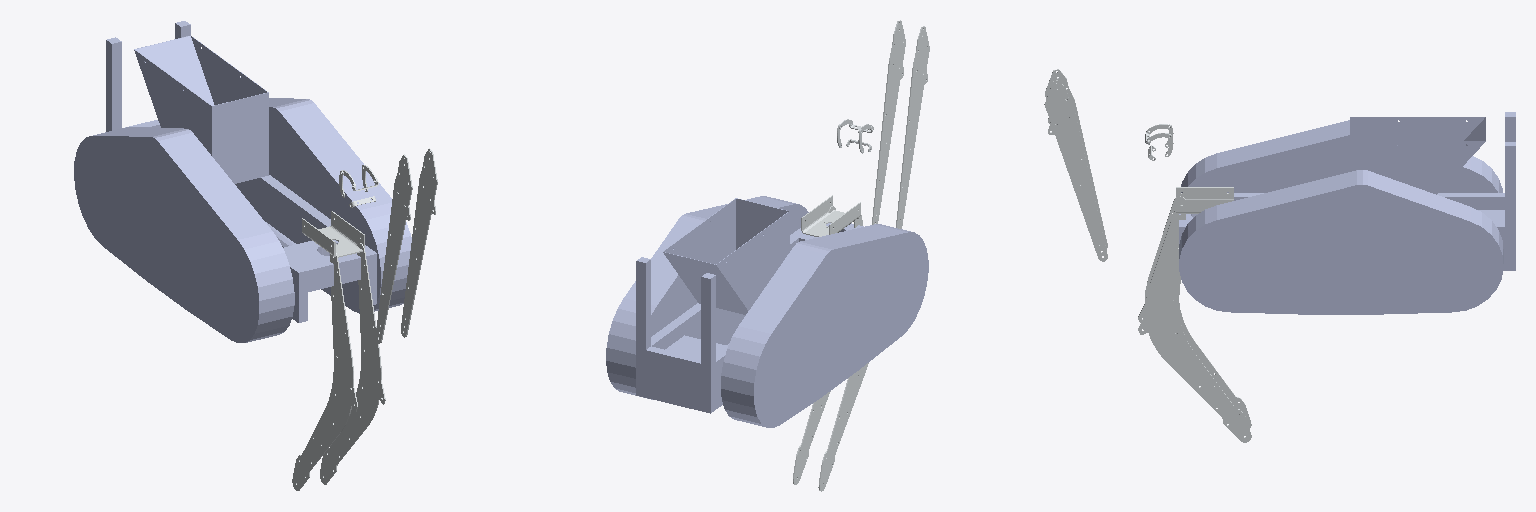
URDF robot description (urdf_files):
<?xml version="1.0" encoding="utf-8"?>
<!-- This URDF was automatically created by SolidWorks to URDF Exporter! Originally created by [author] ([email redacted]) 
     Commit Version: 1.5.1-0-g916b5db  Build Version: 1.5.7152.31018
     For more information, please see http://wiki.ros.org/sw_urdf_exporter -->
<robot
  name="urdf_files">
  <link
    name="base_link">
    <inertial>
      <origin
        xyz="-0.000245405735387999 0.176708927673057 0.00200662816430458"
        rpy="0 0 0" />
      <mass
        value="73.1987225940831" />
      <inertia
        ixx="5.44844381853453"
        ixy="0.000530588416338094"
        ixz="0.00684956990429821"
        iyy="4.94620833738639"
        iyz="0.0418907255499782"
        izz="0.794151271490352" />
    </inertial>
    <visual>
      <origin
        xyz="0 0 0"
        rpy="0 0 0" />
      <geometry>
        <mesh
          filename="package://urdf_files/meshes/base_link.STL" />
      </geometry>
      <material
        name="">
        <color
          rgba="0.792156862745098 0.819607843137255 0.933333333333333 1" />
      </material>
    </visual>
    <collision>
      <origin
        xyz="0 0 0"
        rpy="0 0 0" />
      <geometry>
        <mesh
          filename="package://urdf_files/meshes/base_link.STL" />
      </geometry>
    </collision>
  </link>
  <link
    name="Turntable_Link">
    <inertial>
      <origin
        xyz="3.91763135820788E-09 0.205567132192906 -0.00190110285770567"
        rpy="0 0 0" />
      <mass
        value="0.227999436482662" />
      <inertia
        ixx="0.000570763969480878"
        ixy="1.48699454009952E-11"
        ixz="2.69155197840914E-12"
        iyy="0.000802639067555957"
        iyz="5.46441695495813E-08"
        izz="0.000323934062677162" />
    </inertial>
    <visual>
      <origin
        xyz="0 0 0"
        rpy="0 0 0" />
      <geometry>
        <mesh
          filename="package://urdf_files/meshes/Turntable_Link.STL" />
      </geometry>
      <material
        name="">
        <color
          rgba="0.898039215686275 0.917647058823529 0.929411764705882 1" />
      </material>
    </visual>
    <collision>
      <origin
        xyz="0 0 0"
        rpy="0 0 0" />
      <geometry>
        <mesh
          filename="package://urdf_files/meshes/Turntable_Link.STL" />
      </geometry>
    </collision>
  </link>
  <joint
    name="Turntable"
    type="continuous">
    <origin
      xyz="0.029464 -0.40799 0.059056"
      rpy="1.5708 0 3.1416" />
    <parent
      link="base_link" />
    <child
      link="Turntable_Link" />
    <axis
      xyz="0 -1 0" />
  </joint>
  <link
    name="Lower-Arm_Link">
    <inertial>
      <origin
        xyz="0.233061562897836 0.293782293719561 -9.12156950666487E-10"
        rpy="0 0 0" />
      <mass
        value="0.991682751991289" />
      <inertia
        ixx="0.0085625561640718"
        ixy="-0.0130932756356974"
        ixz="-1.51270777719062E-11"
        iyy="0.0306481453453158"
        iyz="2.88975286149604E-12"
        izz="0.0392090151653679" />
    </inertial>
    <visual>
      <origin
        xyz="0 0 0"
        rpy="0 0 0" />
      <geometry>
        <mesh
          filename="package://urdf_files/meshes/Lower-Arm_Link.STL" />
      </geometry>
      <material
        name="">
        <color
          rgba="0.898039215686275 0.917647058823529 0.929411764705882 1" />
      </material>
    </visual>
    <collision>
      <origin
        xyz="0 0 0"
        rpy="0 0 0" />
      <geometry>
        <mesh
          filename="package://urdf_files/meshes/Lower-Arm_Link.STL" />
      </geometry>
    </collision>
  </link>
  <joint
    name="Lower-Arm"
    type="revolute">
    <origin
      xyz="0 0.18949 0"
      rpy="1.5708 1.0411 1.5708" />
    <limit effort="1.0" velocity="1.0" lower="1.8" upper="5.1"/>
    <parent
      link="Turntable_Link" />
    <child
      link="Lower-Arm_Link" />
    <axis
      xyz="0 0 1" />
  </joint>
  <link
    name="Upper-Arm_Link">
    <inertial>
      <origin
        xyz="-0.389304198489268 0.236602256783372 1.62407178677659E-09"
        rpy="0 0 0" />
      <mass
        value="0.537973764882104" />
      <inertia
        ixx="0.000176359531021174"
        ixy="0.000243676618961583"
        ixz="1.37699254869698E-11"
        iyy="0.012563907734834"
        iyz="5.41325045272918E-12"
        izz="0.012739343200944" />
    </inertial>
    <visual>
      <origin
        xyz="0 0 0"
        rpy="0 0 0" />
      <geometry>
        <mesh
          filename="package://urdf_files/meshes/Upper-Arm_Link.STL" />
      </geometry>
      <material
        name="">
        <color
          rgba="0.898039215686275 0.917647058823529 0.929411764705882 1" />
      </material>
    </visual>
    <collision>
      <origin
        xyz="0 0 0"
        rpy="0 0 0" />
      <geometry>
        <mesh
          filename="package://urdf_files/meshes/Upper-Arm_Link.STL" />
      </geometry>
    </collision>
  </link>
  <joint
    name="Upper-Arm"
    type="revolute">
    <origin
      xyz="0.084492 0.14432 0"
      rpy="0 0 -2.3039" />
    <limit effort="1.0" velocity="1.0" lower="1.1" upper="4.5"/>
    <parent
      link="Lower-Arm_Link" />
    <child
      link="Upper-Arm_Link" />
    <axis
      xyz="0 0 1" />
  </joint>
  <link
    name="Scoop_Link">
    <inertial>
      <origin
        xyz="0.219598152218763 -0.182686439253031 -1.86898274634473E-11"
        rpy="0 0 0" />
      <mass
        value="0.201108630026289" />
      <inertia
        ixx="0.000208232213351491"
        ixy="-7.29191619926531E-05"
        ixz="5.39582740208427E-18"
        iyy="0.000293811680022154"
        iyz="3.03202611839885E-18"
        izz="0.000367984985857797" />
    </inertial>
    <visual>
      <origin
        xyz="0 0 0"
        rpy="0 0 0" />
      <geometry>
        <mesh
          filename="package://urdf_files/meshes/Scoop_Link.STL" />
      </geometry>
      <material
        name="">
        <color
          rgba="0.894117647058823 0.913725490196078 0.929411764705882 1" />
      </material>
    </visual>
    <collision>
      <origin
        xyz="0 0 0"
        rpy="0 0 0" />
      <geometry>
        <mesh
          filename="package://urdf_files/meshes/Scoop_Link.STL" />
      </geometry>
    </collision>
  </link>
  <joint
    name="Scoop"
    type="revolute">
    <origin
      xyz="-0.092545 -0.019096 0"
      rpy="0 0 1.9904" />
    <limit effort="1.0" velocity="1.0" lower="0.3" upper="2.7"/>
    <parent
      link="Upper-Arm_Link" />
    <child
      link="Scoop_Link" />
    <axis
      xyz="0 0 1" />
  </joint>
</robot>

--- Facts derived from the render (not from the file) ---
Views: 3 orthographic renders of the robot side by side, from view 1: azimuth 30°, elevation 25°; view 2: azimuth 150°, elevation 25°; view 3: azimuth 270°, elevation 25°.
Robot: urdf_files — 5 links, 4 joints (3 revolute, 1 continuous); root link base_link; default pose: joints at zero except 3 at the middle of their limits (Lower-Arm = 3.45, Upper-Arm = 2.8, Scoop = 1.5).
Visible links, largest first — view 1: base_link, Lower-Arm_Link, Upper-Arm_Link, Turntable_Link, Scoop_Link; view 2: base_link, Upper-Arm_Link, Lower-Arm_Link, Turntable_Link; view 3: base_link, Lower-Arm_Link, Upper-Arm_Link, Turntable_Link.
Boxes of the visible links, x1,y1,x2,y2 form: base_link: (74, 21, 411, 342); Lower-Arm_Link: (292, 243, 385, 490); Upper-Arm_Link: (376, 148, 437, 343); Turntable_Link: (302, 211, 364, 257); Scoop_Link: (339, 165, 378, 207); base_link: (606, 196, 928, 427); Upper-Arm_Link: (872, 20, 929, 228); Lower-Arm_Link: (793, 206, 868, 491); Turntable_Link: (801, 195, 860, 236); base_link: (1179, 112, 1515, 314); Lower-Arm_Link: (1138, 196, 1251, 442); Upper-Arm_Link: (1044, 69, 1107, 261); Turntable_Link: (1176, 187, 1233, 213).
Size in the robot's own frame: 0.4538 by 1.35 by 1.15 metres.
5 mesh visuals loaded from 5 distinct referenced files (5 binary STL).